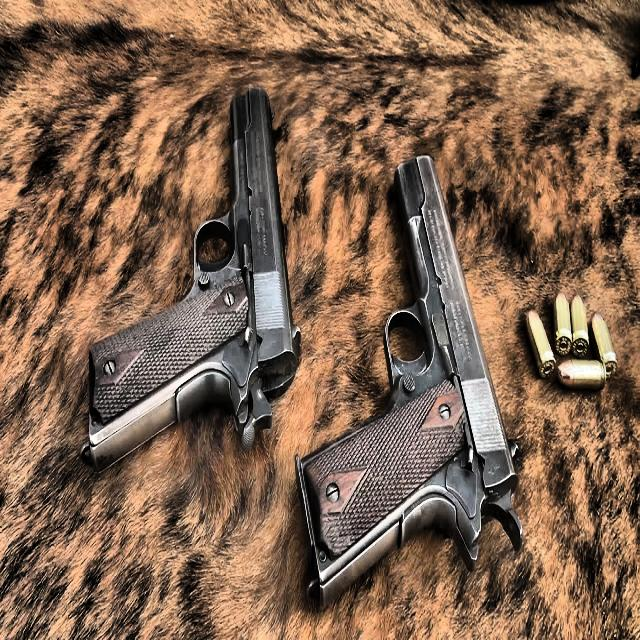Colt m1911: (294, 152, 523, 611), (80, 78, 306, 465)
